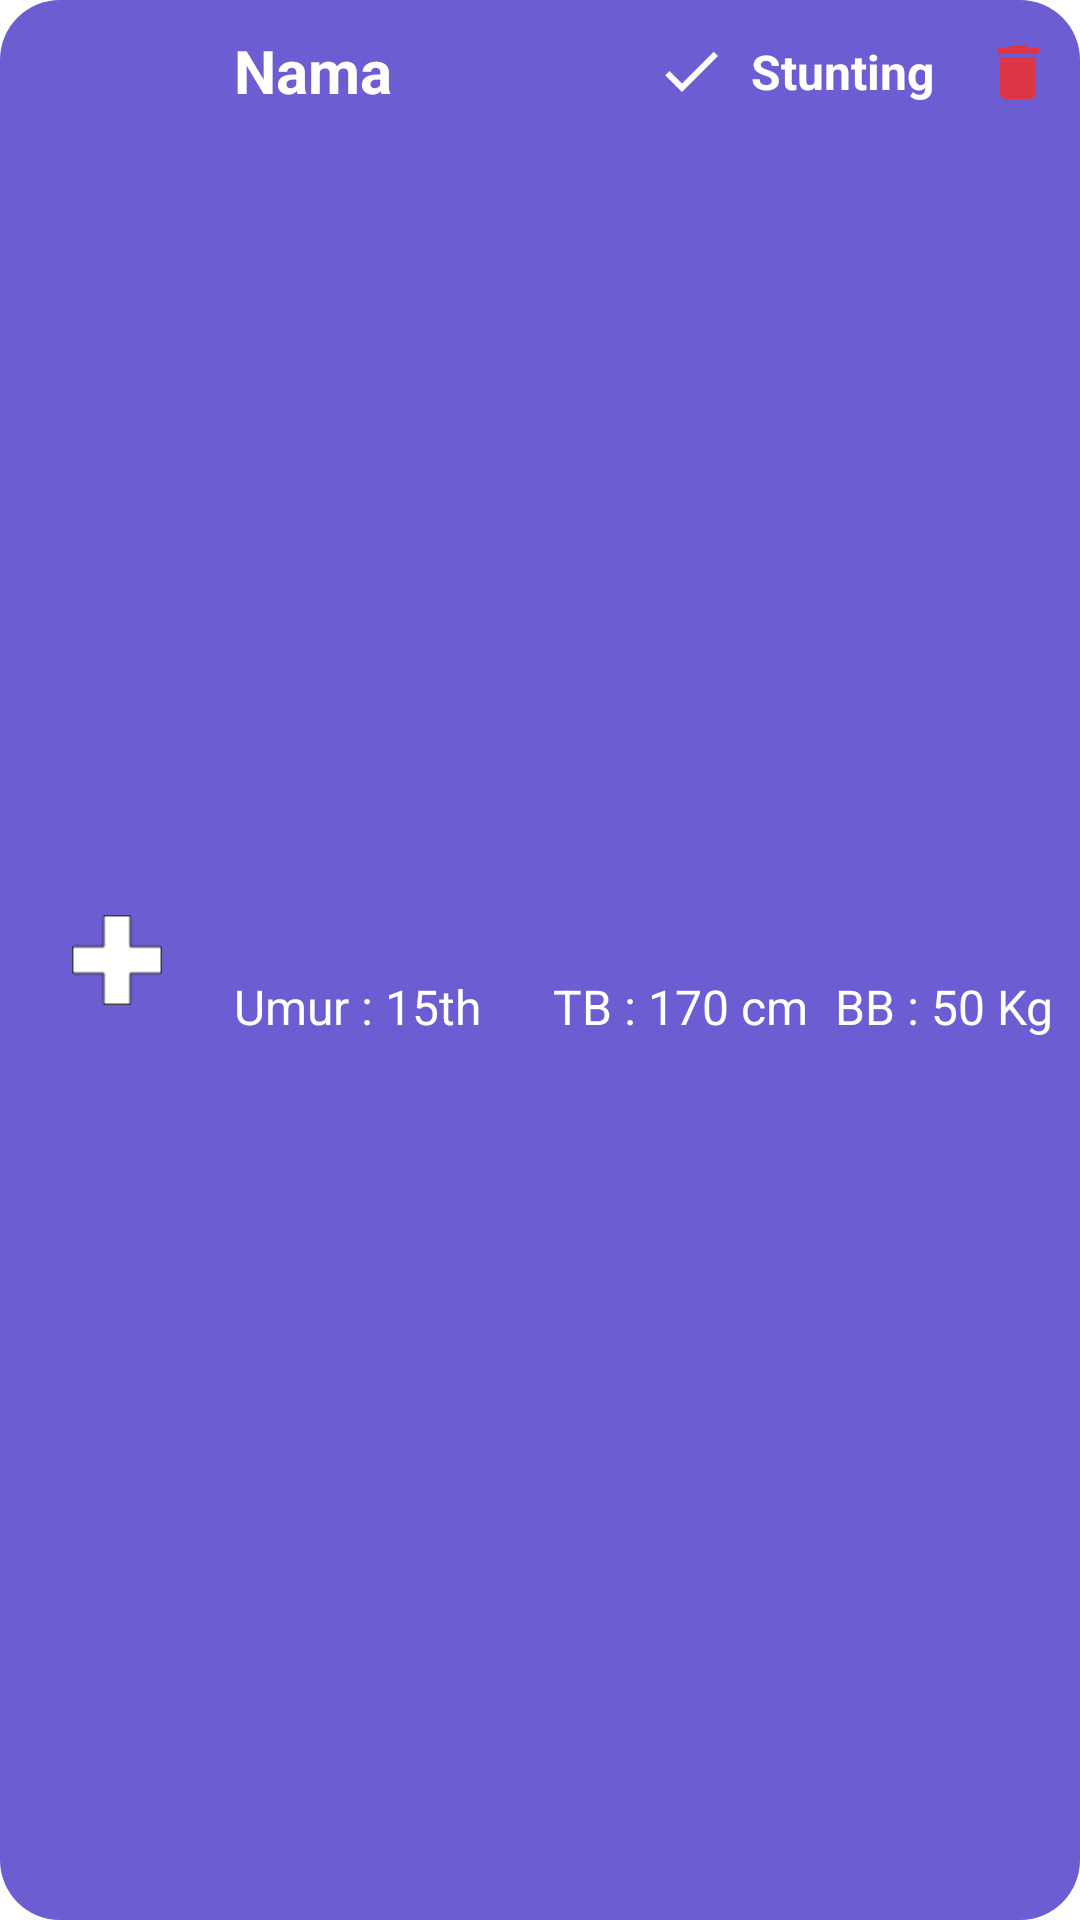

Named icons in this screenshot (1080px×1920px) and their centers, (x=x, y=y):
check: (x=691, y=72)
delete: (x=1018, y=72)
plus: (x=117, y=960)
